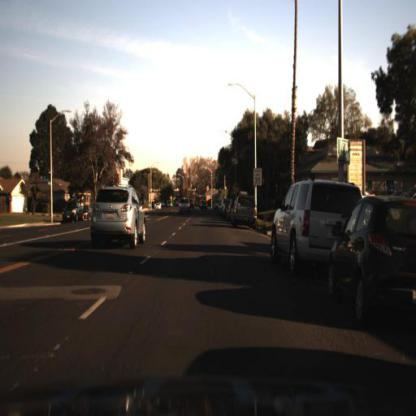car: (327, 194, 416, 330), (266, 173, 333, 285), (81, 170, 151, 258), (232, 190, 259, 231), (59, 201, 86, 224), (84, 198, 94, 226), (197, 195, 210, 215), (154, 201, 163, 215)
